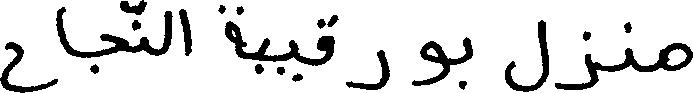X: (506, 15, 547, 92), (0, 37, 55, 92), (556, 26, 593, 92), (413, 36, 447, 90), (349, 45, 388, 92), (101, 0, 125, 60), (660, 38, 692, 75), (57, 2, 69, 86), (318, 10, 333, 69), (226, 2, 239, 61), (180, 4, 189, 60), (257, 33, 267, 78), (290, 35, 297, 86), (465, 32, 471, 90), (165, 6, 171, 57), (626, 17, 631, 72), (142, 0, 146, 56)
